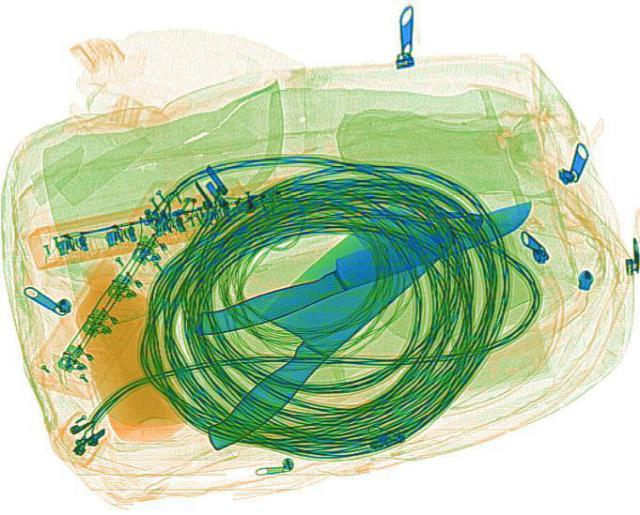Knife: (150, 194, 460, 457), (180, 190, 544, 343)
